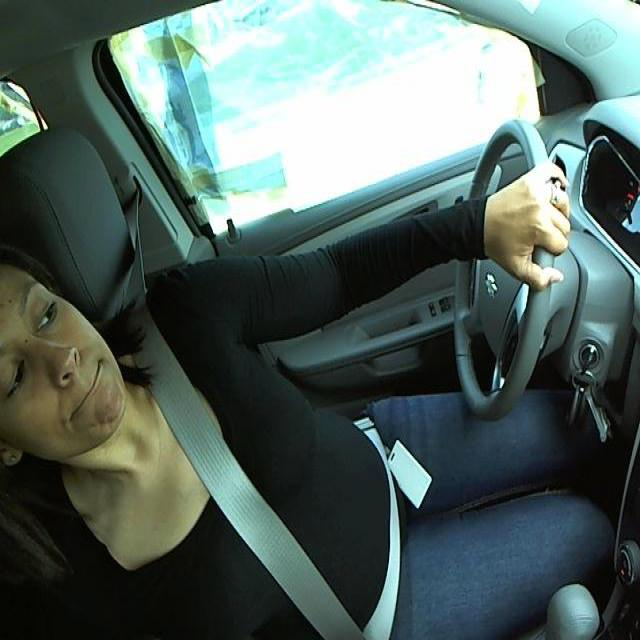seatbelt: (143, 371, 406, 633)
